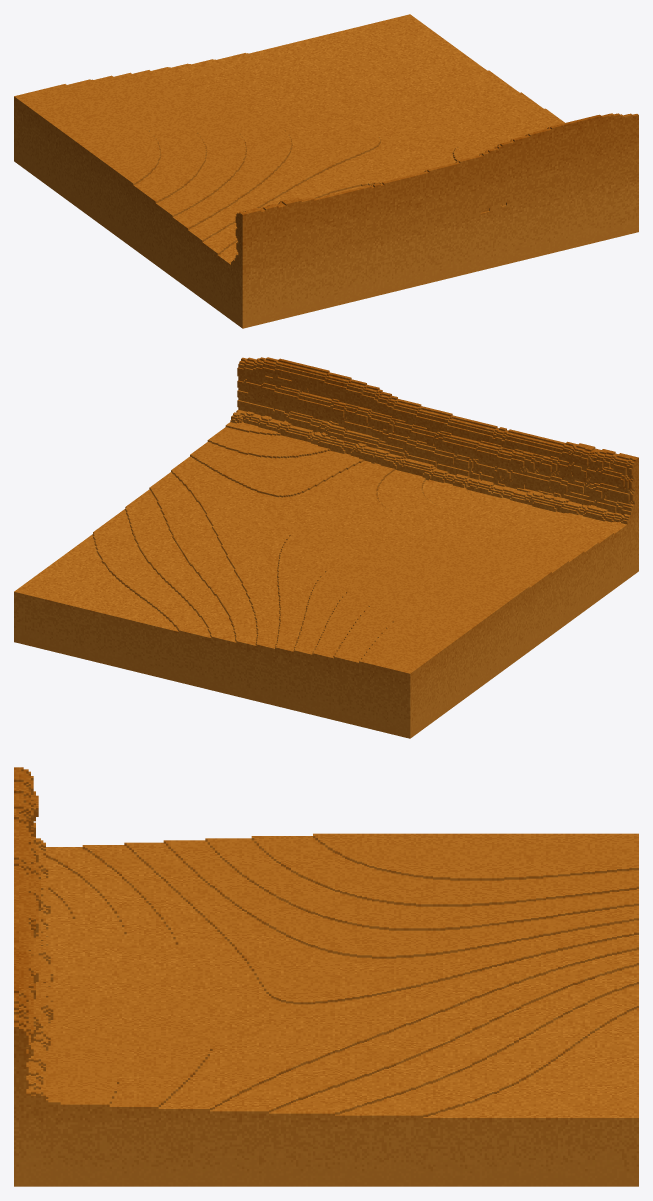
Rendered from Marte-14.obj.
The picture shows the model from 3 angles, top to bottom: view 1: azimuth 30°, elevation 25°; view 2: azimuth 150°, elevation 25°; view 3: azimuth 270°, elevation 25°; orthographic projection. The views are drawn at different scales.
Bounding box in the file's own units: 25.5 × 7.7 × 25.5.
Materials: 1 (1 with a texture image).
